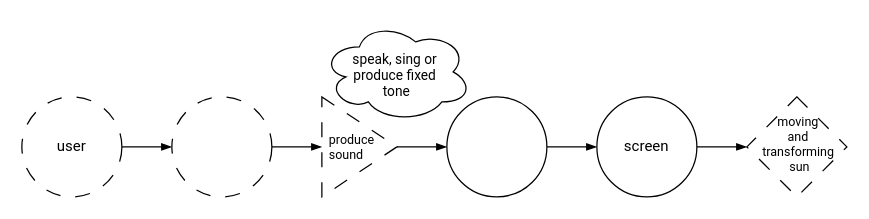
Some shapes in this 869 by 219 pixel diagram are drawn without their labels. The shapes that lost their labels are listed below. From the top down, each one's centre as x and y in pixels, then its label:
the point at 221,146: voice
the point at 496,146: microphone
